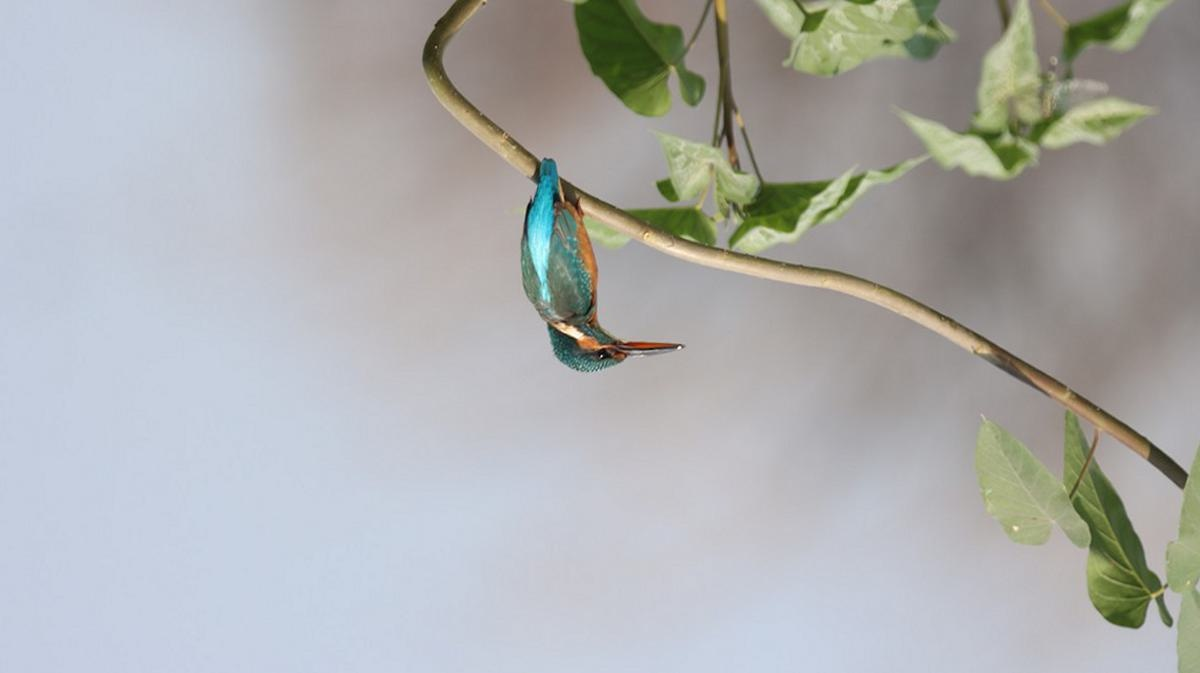kingfisher: (494, 162, 693, 378)
